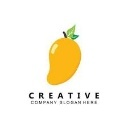mango: (48, 36, 82, 86)
